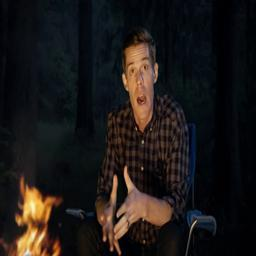fire: (15, 179, 61, 256)
